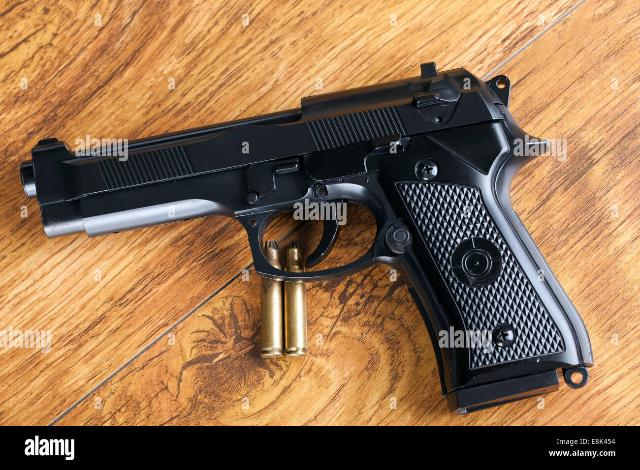handgun: (15, 54, 597, 416)
